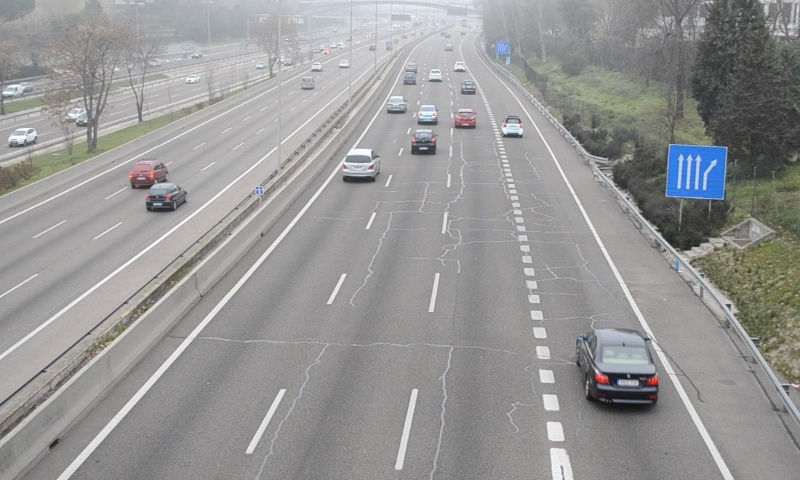car: (578, 327, 660, 406), (340, 147, 380, 180), (410, 128, 437, 155), (500, 114, 524, 139), (454, 107, 477, 130), (417, 103, 438, 125), (386, 96, 407, 114), (459, 79, 476, 95), (402, 72, 418, 86)
